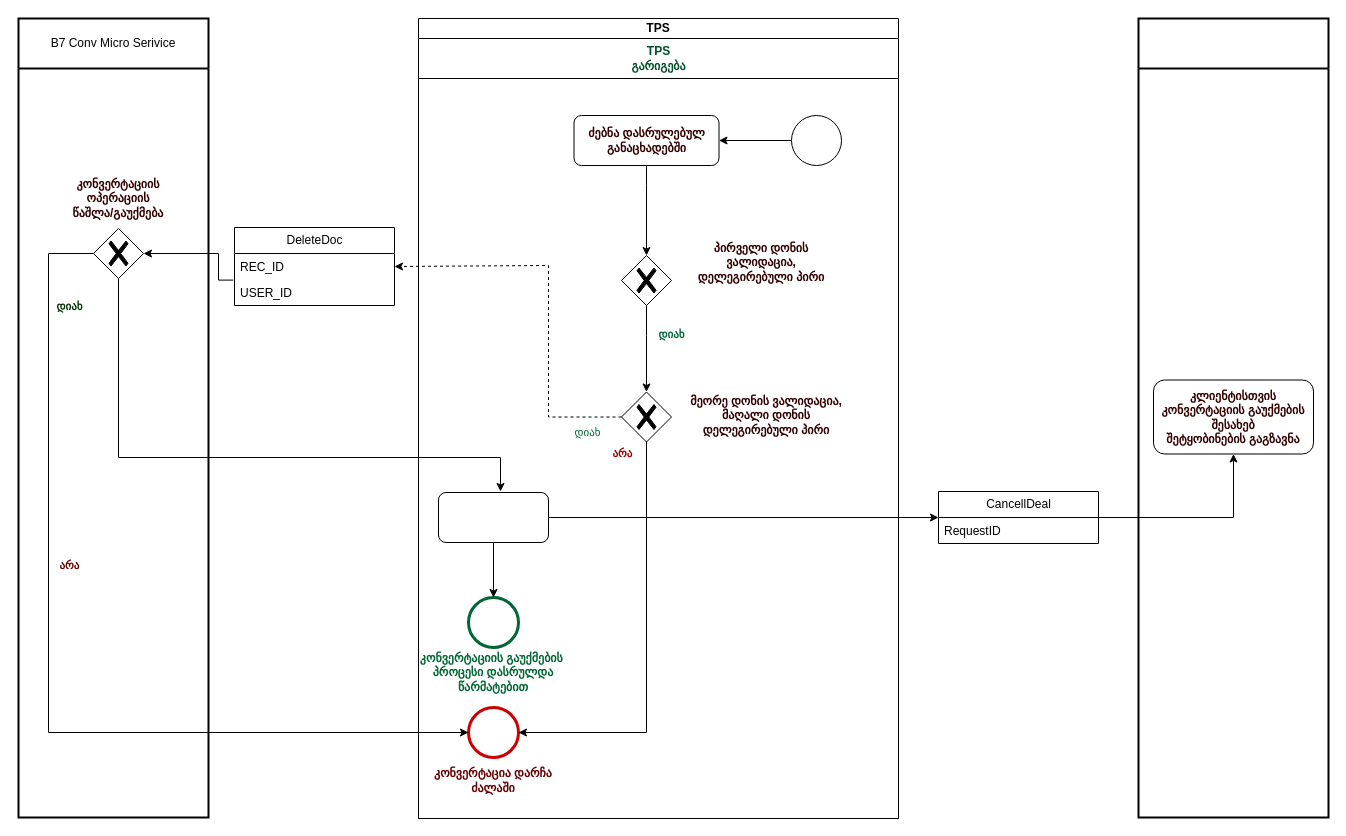
This 1346x836 diagram has some shape labels left out. The shapes that lost their labels are listed below. From the top down, each one's box as (x1, y1, x2, y2) in pixels, then its label:
(790, 114, 842, 166): პროცესის დაწყება
(1137, 17, 1329, 818): ბიზნეს ინტერნეტ ბანკი
(438, 492, 548, 542): სტატუსის შეცვლა
